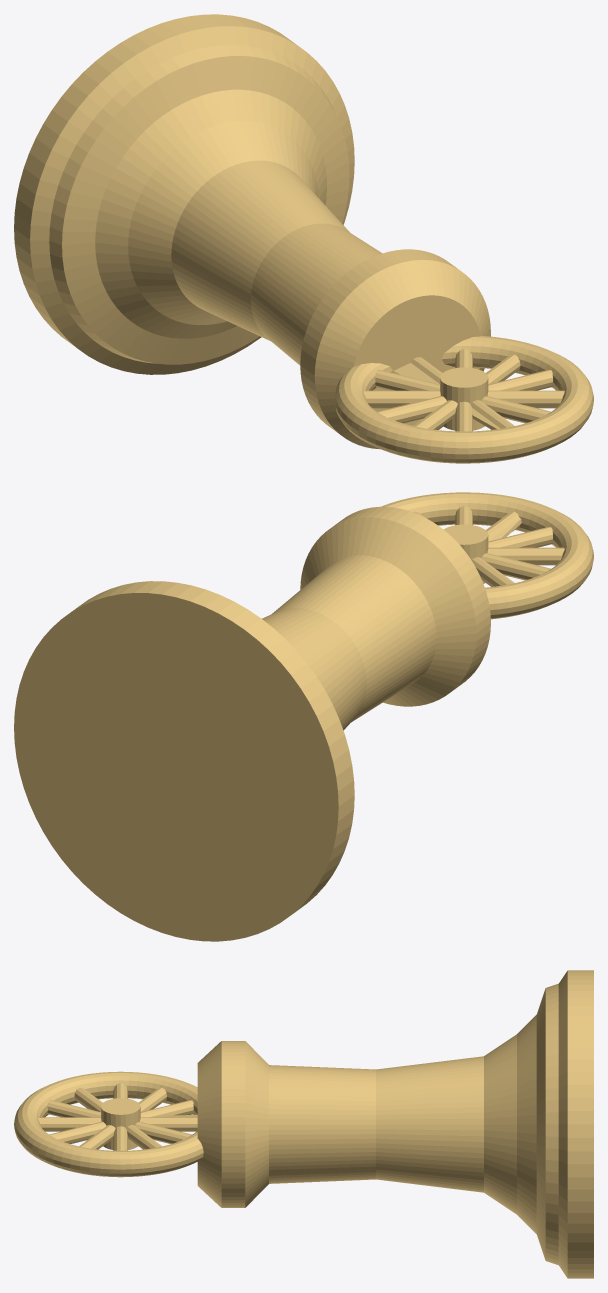
File: maharathi_surya.glb
3 renders of one model, top to bottom at view 1: azimuth 30°, elevation 25°; view 2: azimuth 150°, elevation 25°; view 3: azimuth 270°, elevation 25°, orthographic. The views are drawn at different scales.
Parts seen in each view (by area): view 1: geometry_0; view 2: geometry_0; view 3: geometry_0.
Boxes of the visible parts, left/top/right/bottom form: geometry_0: left=14, top=14, right=593, bottom=463; geometry_0: left=14, top=492, right=593, bottom=941; geometry_0: left=14, top=970, right=593, bottom=1278.
Size of the model in its own units: 0.028 by 0.028 by 0.0527.
